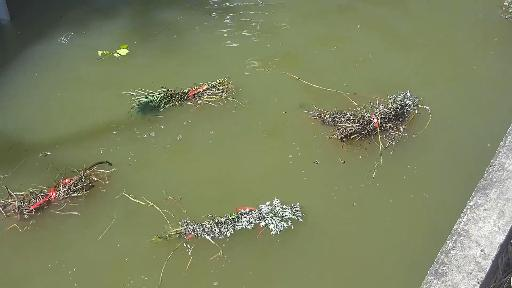leaf: (82, 44, 141, 67)
twig: (109, 193, 325, 265), (280, 67, 425, 174), (3, 149, 127, 222), (122, 75, 252, 129)
